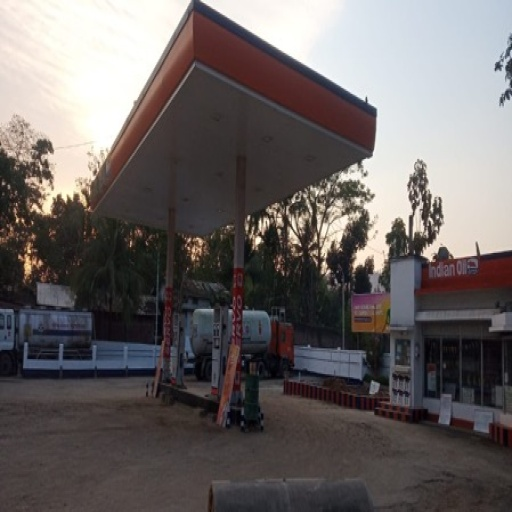roof: (92, 1, 379, 249)
